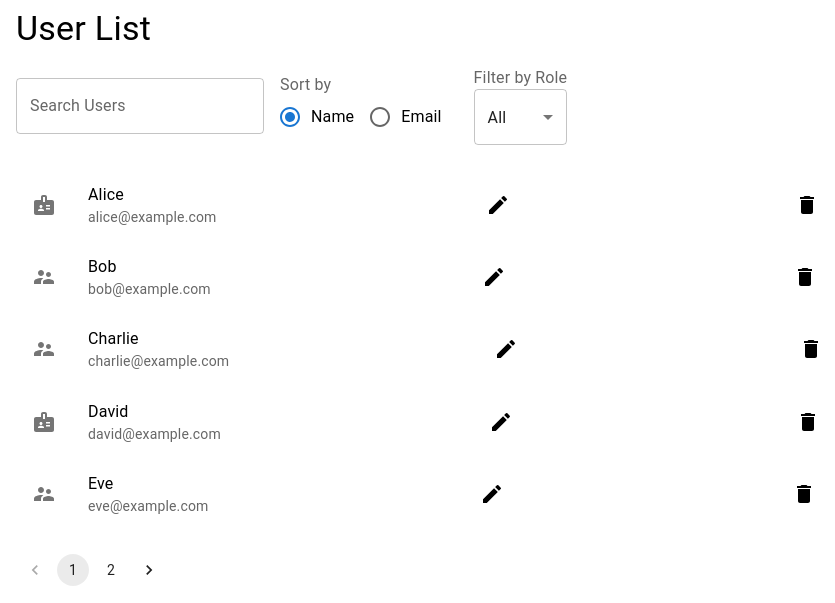
Test: UserEmployeeListMittel › should paginate users
Click the button named "Go to page 2": (111, 570) [95,554,127,586]
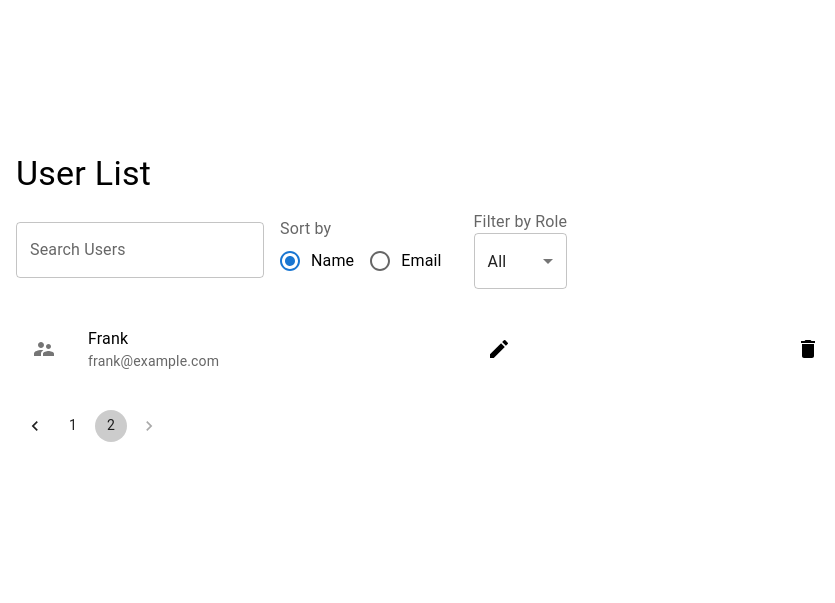
Expected: the text "Frank" is shown, [88,330,128,348]
